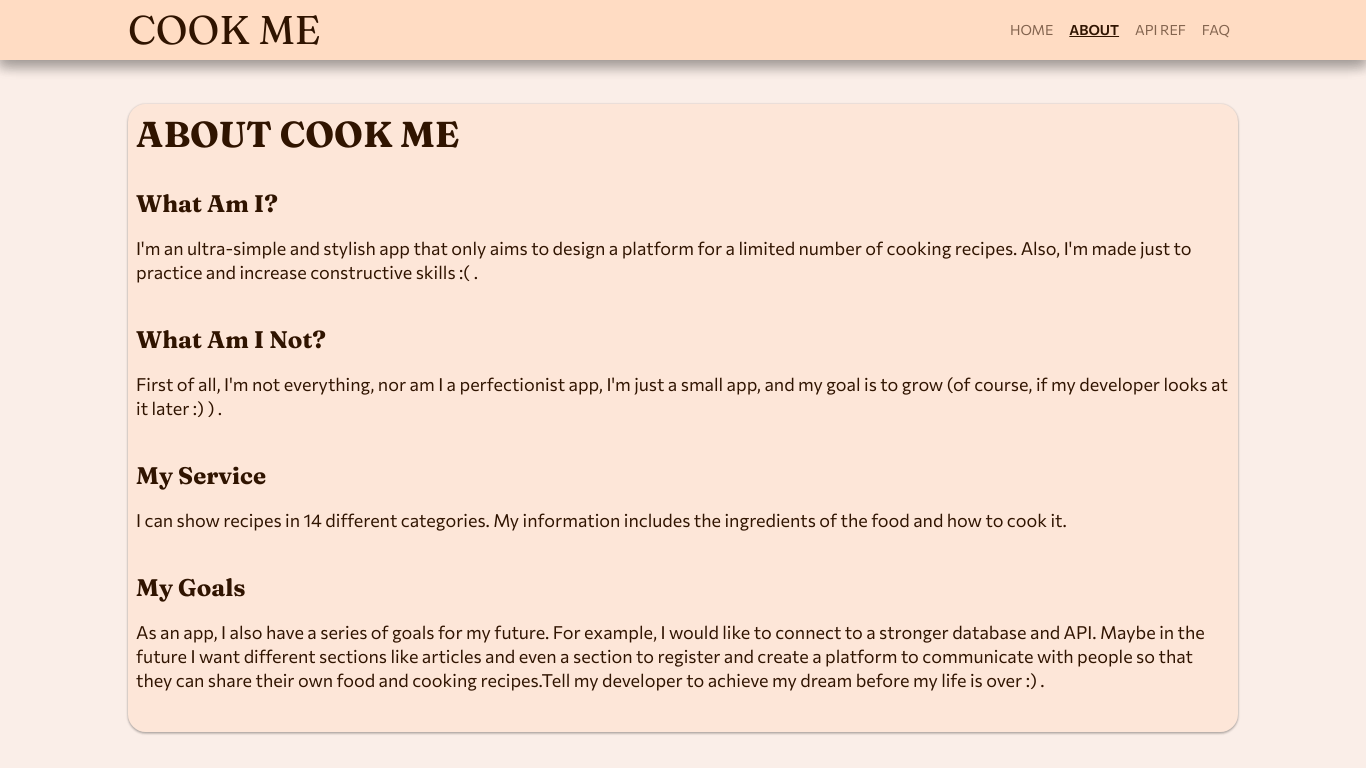
Test case: Navigation › home page navigation
Click the link to "/home" at (1032, 30), box top-left (1002, 20), bottom-right (1061, 40)
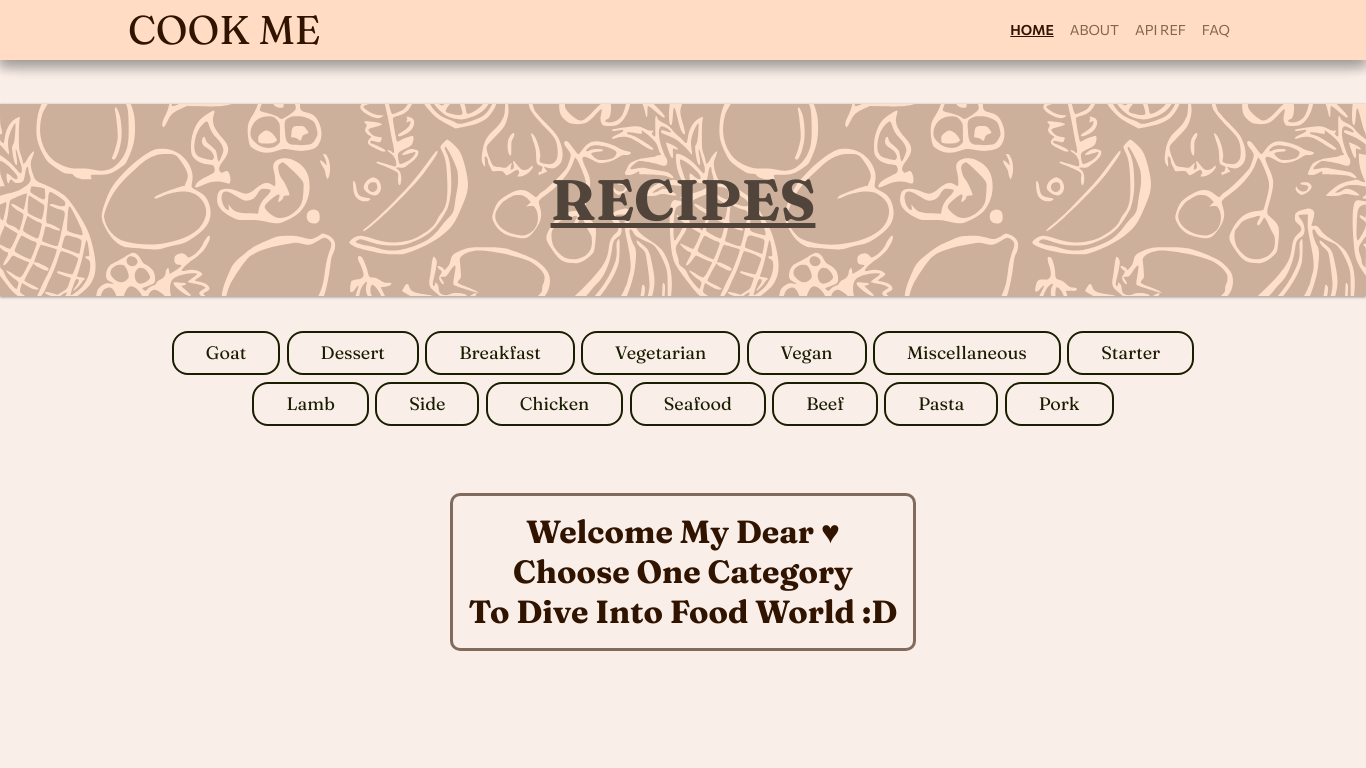
Expected: the element with id "recipeLinks_con" is shown, top-left (172, 331), bottom-right (1194, 425)
